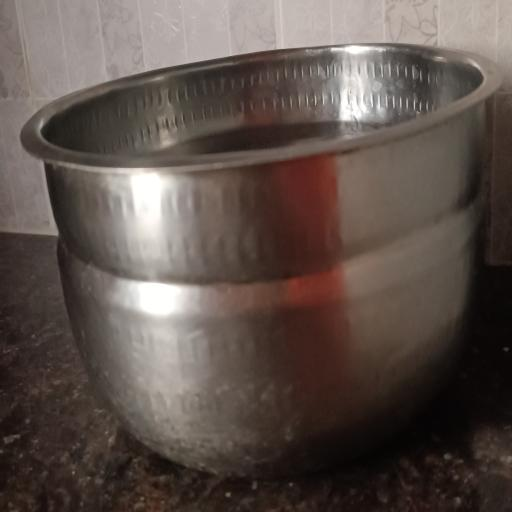vessel: (21, 45, 500, 475)
